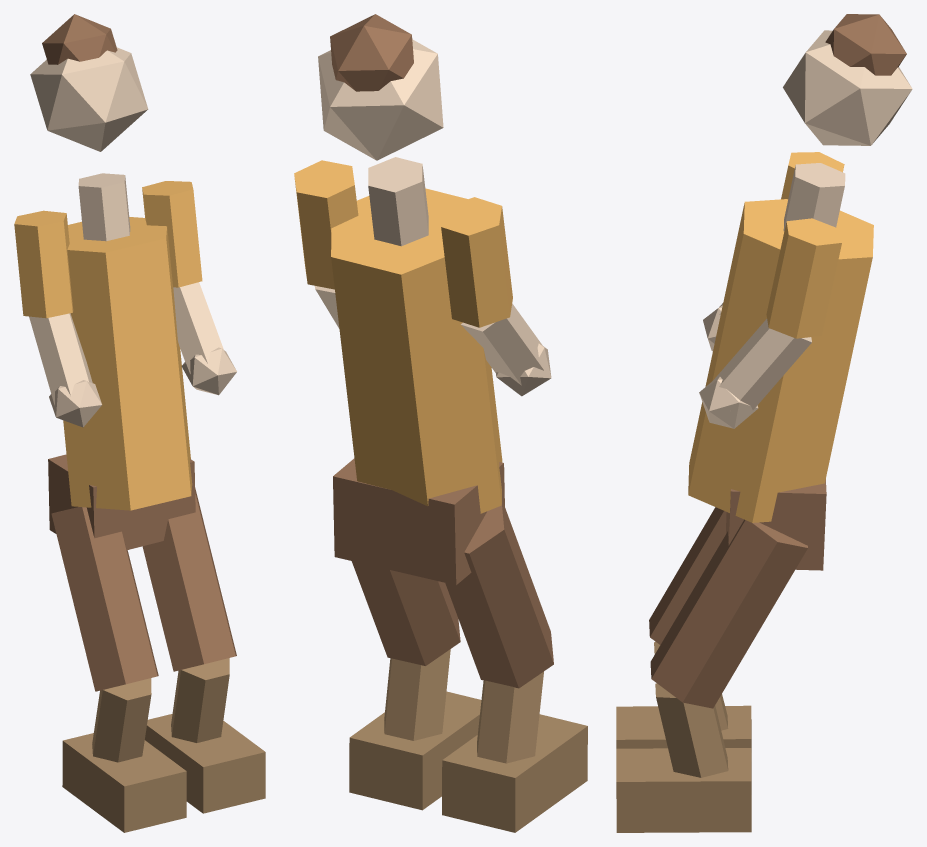
Rendered from pose_hit_light_11.glb.
3 renders of one model, left to right at view 1: azimuth 30°, elevation 25°; view 2: azimuth 150°, elevation 25°; view 3: azimuth 270°, elevation 25°, orthographic. The views are drawn at different scales.
Parts seen in each view (by area): view 1: pose; view 2: pose; view 3: pose.
Boxes of the visible parts, x1,y1,x2,y2 form: pose: (14, 14, 265, 832); pose: (294, 14, 587, 832); pose: (616, 14, 912, 832).
Bounding box in the file's own units: 0.3983 × 1.53 × 0.5266.
